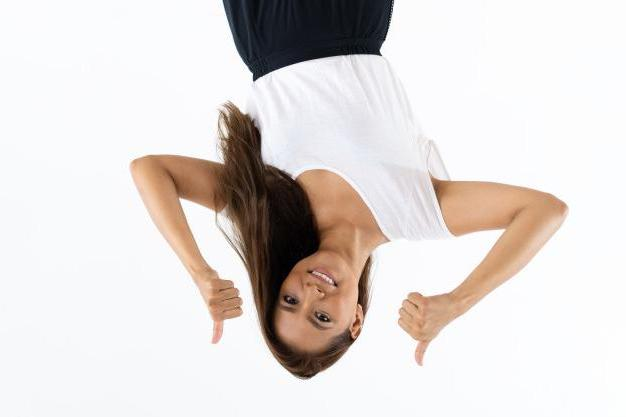thumbsdown: (398, 292, 433, 366), (209, 280, 243, 345)
